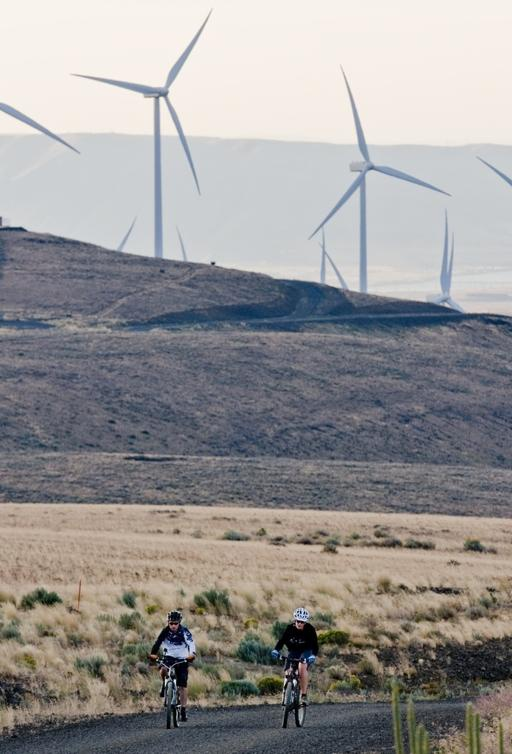non-vehicle: (146, 655, 195, 730), (275, 652, 310, 728)
